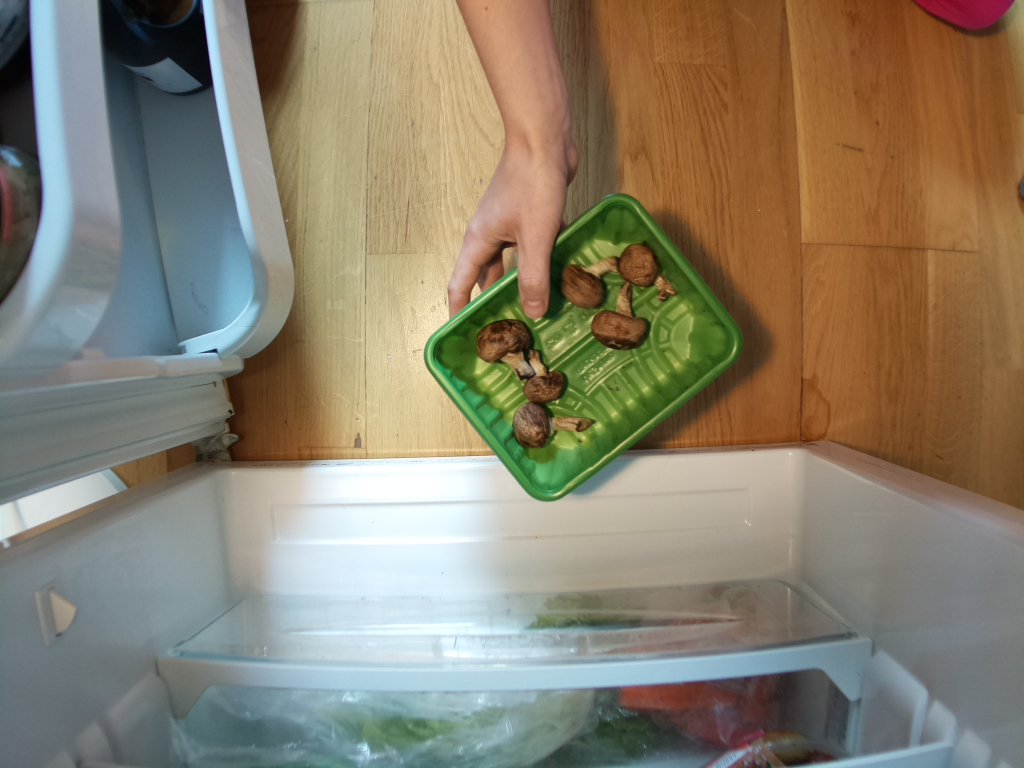mushrooms-bad: (422, 193, 743, 500)
